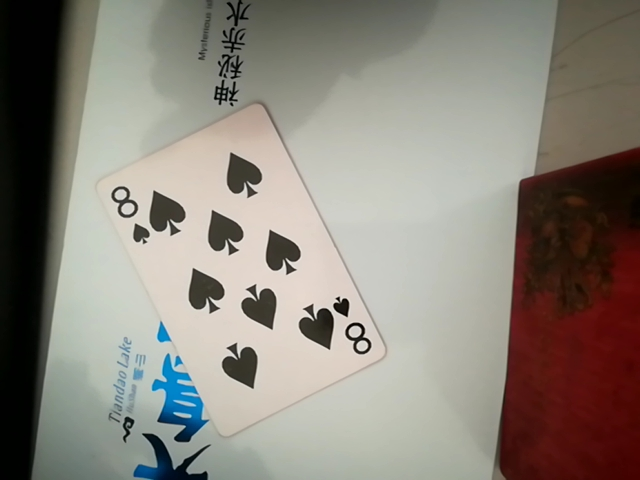ht 8: (102, 100, 392, 441)
